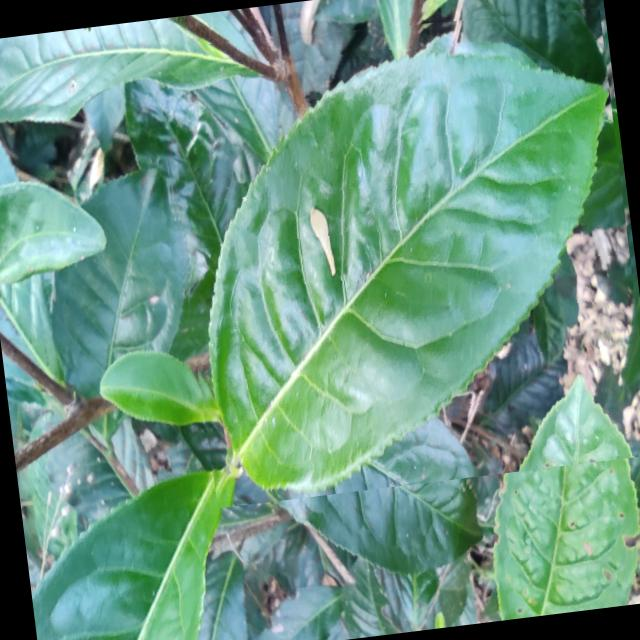Category D(7+ days, Not for Tea): (150, 0, 640, 508)
